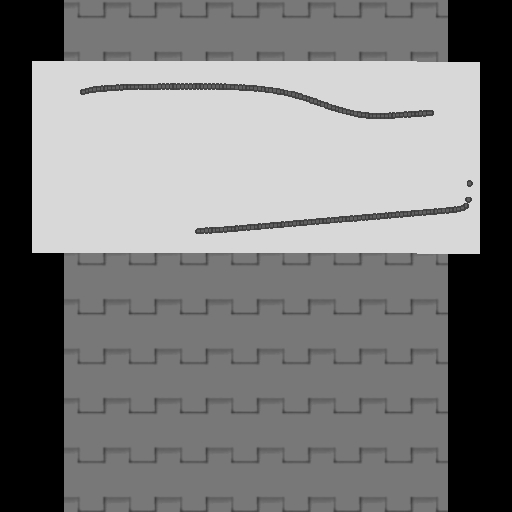Defect: (51, 86, 196, 244)
